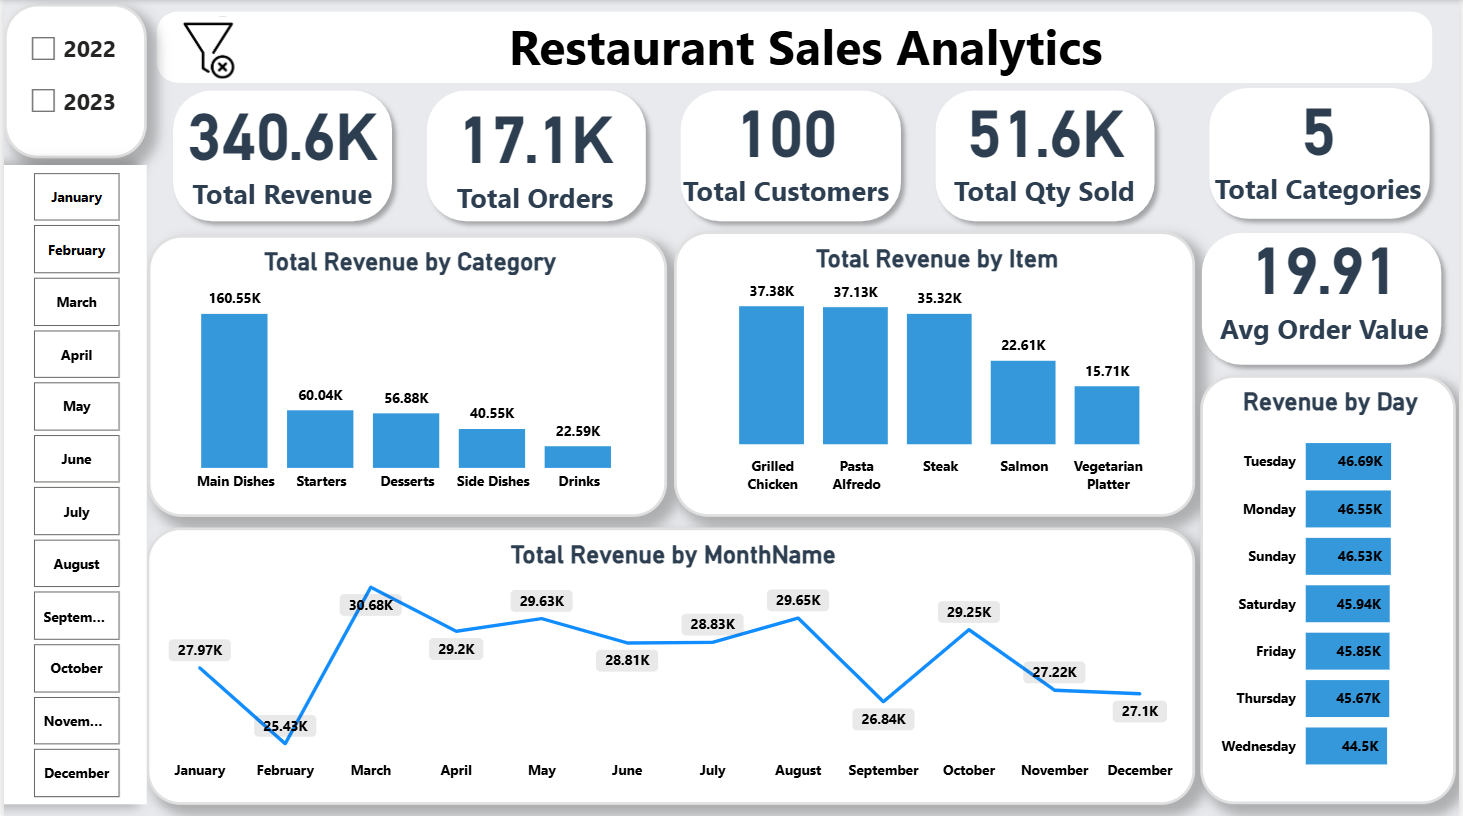

Layout of this report page (visuals, bound fields, positions):
{"tool":"powerbi","page":{"name":"Overview","canvas":[1280,720],"ordinal":0},"visuals":[{"type":"shape","box":[134.5,9.5,1122.6,63.1],"z":0},{"type":"textbox","title":"Restaurant Sales Analytics","box":[144,10.7,1122.6,63.1],"z":1000},{"type":"shape","box":[139.3,70.2,210.7,133.3],"z":2000},{"type":"shape","box":[362.5,70.2,210.7,133.3],"z":3000},{"type":"card","fields":{"Values":["Measures (2).Total Revenue"]},"box":[152.4,54.8,184.5,148.8],"z":4000},{"type":"shape","box":[585.7,70.2,211.9,133.3],"z":5000},{"type":"shape","box":[810.1,70.2,210.7,133.3],"z":6000},{"type":"shape","box":[1051.2,67.9,211.9,133.3],"z":7000},{"type":"card","fields":{"Values":["Measures (2).Total Orders"]},"box":[381,57.1,173.8,150],"z":8000},{"type":"card","fields":{"Values":["Measures (2).Total Customers"]},"box":[588.1,51.2,200,150],"z":9000},{"type":"card","fields":{"Values":["Measures (2).Total Quantity Sold"]},"box":[822.6,10.7,185.7,231],"z":10000},{"type":"columnChart","fields":{"Category":["restaurant_sales_data.Category"],"Y":["Measures (2).Total Revenue"]},"box":[126.7,207,457,247.7],"z":11000},{"type":"columnChart","fields":{"Y":["Measures (2).Total Revenue"],"Category":["restaurant_sales_data.Item"]},"box":[589.5,203.5,458.1,251.2],"z":12000},{"type":"lineChart","fields":{"Y":["Measures (2).Total Revenue"],"Category":["MonthsTable.MonthName"]},"box":[125.6,464,922.1,244.2],"z":13000},{"type":"slicer","fields":{"Values":["restaurant_sales_data.Year"]},"box":[0,3.5,125.6,136],"z":14000},{"type":"shape","box":[1044.6,195.7,228.7,134.1],"z":15000},{"type":"card","fields":{"Values":["Measures (2).Total Categories"]},"box":[1055.6,50.6,201.2,148.4],"z":16000},{"type":"card","fields":{"Values":["Measures (2).Avg Order Value"]},"box":[1061.1,173.7,201.2,147.3],"z":17000},{"type":"barChart","title":"Revenue by Day","fields":{"Y":["Measures (2).Total Revenue"],"Category":["restaurant_sales_data.Day"]},"box":[1052.3,330.2,224.4,377.9],"z":18000},{"type":"slicer","fields":{"Values":["MonthsTable.MonthName"]},"box":[0,145.3,125.6,562.8],"z":19000},{"type":"actionButton","box":[111.9,2.4,134.5,79.8],"z":20000}]}

Visuals, with their boxes in screenshot pixels (x1, y1, x2, y2), scaled from the page's 1280x720 canvas onto the 1463x816 screenshot:
shape: 154, 11, 1437, 82
"Restaurant Sales Analytics" textbox: 165, 12, 1448, 84
shape: 159, 80, 400, 231
shape: 414, 80, 655, 231
card - Measures (2).Total Revenue: 174, 62, 385, 231
shape: 669, 80, 912, 231
shape: 926, 80, 1167, 231
shape: 1201, 77, 1444, 228
card - Measures (2).Total Orders: 435, 65, 634, 235
card - Measures (2).Total Customers: 672, 58, 901, 228
card - Measures (2).Total Quantity Sold: 940, 12, 1152, 274
columnChart - restaurant_sales_data.Category x Measures (2).Total Revenue: 145, 235, 667, 515
columnChart - Measures (2).Total Revenue x restaurant_sales_data.Item: 674, 231, 1197, 515
lineChart - Measures (2).Total Revenue x MonthsTable.MonthName: 144, 526, 1197, 803
slicer - restaurant_sales_data.Year: 0, 4, 144, 158
shape: 1194, 222, 1455, 374
card - Measures (2).Total Categories: 1207, 57, 1436, 226
card - Measures (2).Avg Order Value: 1213, 197, 1443, 364
"Revenue by Day" barChart: 1203, 374, 1459, 803
slicer - MonthsTable.MonthName: 0, 165, 144, 803
actionButton: 128, 3, 282, 93
